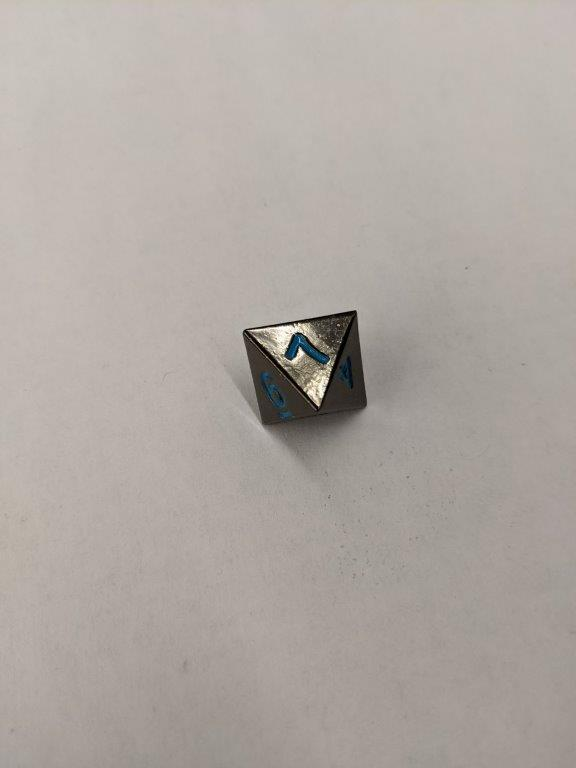d8-7: (240, 310, 373, 433)
